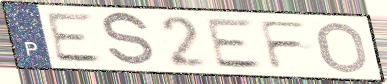2: (158, 14, 210, 70)
E: (43, 12, 107, 65), (204, 18, 267, 71)
F: (256, 19, 312, 71)
O: (315, 20, 371, 75)
S: (100, 10, 157, 70)
